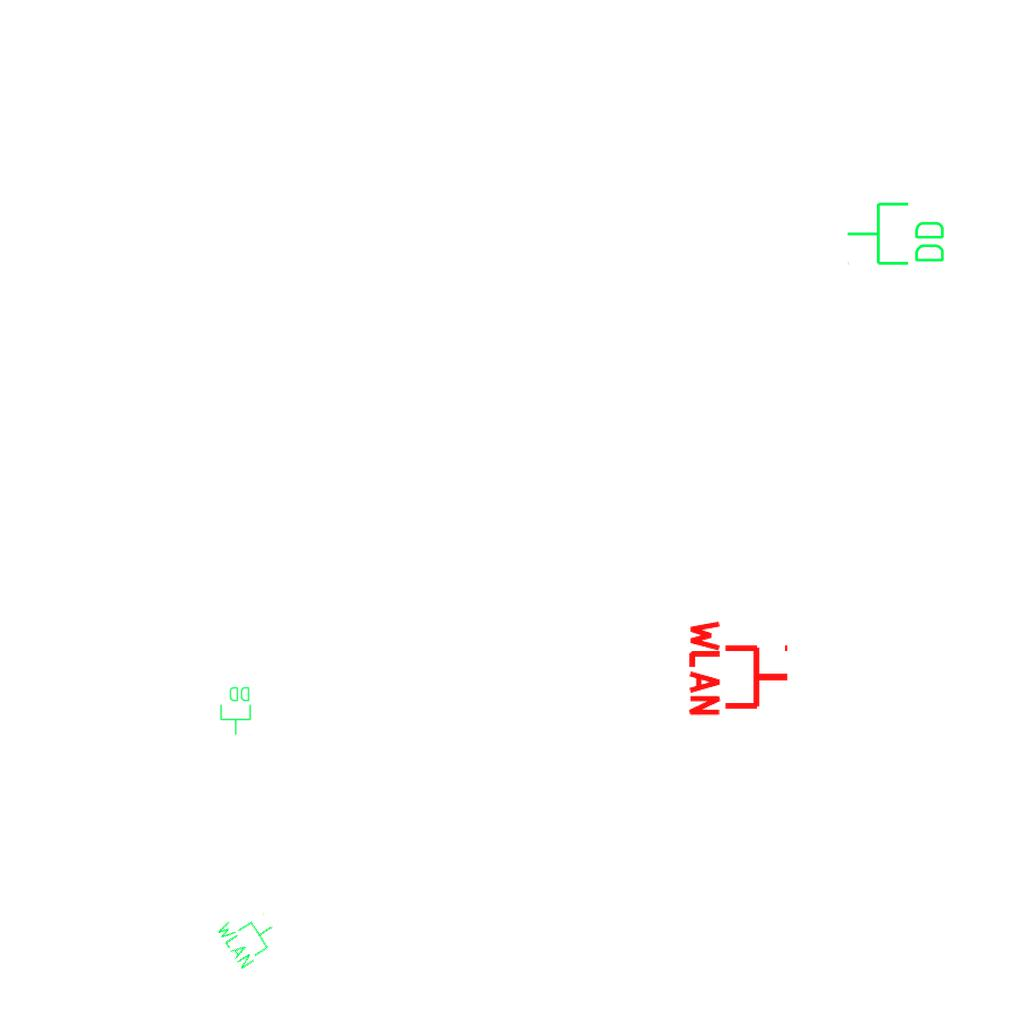Datenanschluss_zweifach: (845, 200, 948, 269), (219, 685, 253, 736)
WLAN: (687, 616, 792, 720), (213, 900, 285, 972)
